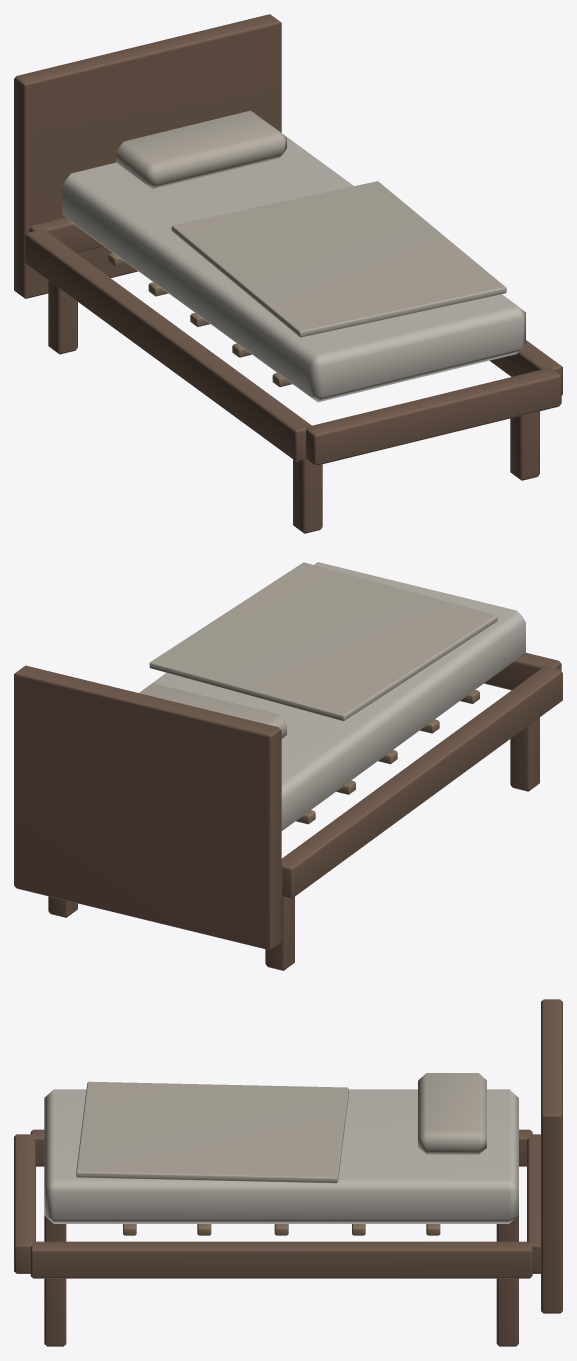
The model's file is prop_single_bed_old_01.glb.
The picture shows the model from 3 angles, top to bottom: view 1: azimuth 30°, elevation 25°; view 2: azimuth 150°, elevation 25°; view 3: azimuth 270°, elevation 25°; orthographic projection. The views are drawn at different scales.
Parts seen in each view (by area): view 1: dirty_mattress.001, old_headboard.001, dirty_sheet_thin.001, bed_rail_left.001, bed_rail_front.001, dirty_pillow.001, bed_leg_01.001, bed_leg_02.001, bed_leg_03.001, bed_rail_right.001, bed_rail_back.001; view 2: old_headboard.001, dirty_sheet_thin.001, dirty_mattress.001, bed_rail_left.001, dirty_pillow.001, bed_leg_01.001, bed_leg_03.001, bed_rail_front.001; view 3: dirty_mattress.001, dirty_sheet_thin.001, bed_rail_right.001, old_headboard.001, dirty_pillow.001, bed_rail_front.001, bed_rail_back.001, bed_leg_04.001, bed_leg_02.001, bed_rail_left.001, bed_leg_01.001, bed_leg_03.001.
Boxes of the visible parts, x1=… form: dirty_mattress.001: x1=62, y1=130, x2=525, y2=402; old_headboard.001: x1=14, y1=14, x2=281, y2=298; dirty_sheet_thin.001: x1=171, y1=181, x2=506, y2=337; bed_rail_left.001: x1=25, y1=229, x2=311, y2=461; bed_rail_front.001: x1=306, y1=367, x2=561, y2=465; dirty_pillow.001: x1=116, y1=110, x2=286, y2=189; bed_leg_01.001: x1=293, y1=459, x2=322, y2=533; bed_leg_02.001: x1=510, y1=411, x2=539, y2=480; bed_leg_03.001: x1=48, y1=280, x2=77, y2=354; bed_rail_right.001: x1=490, y1=340, x2=562, y2=395; bed_rail_back.001: x1=29, y1=217, x2=103, y2=253; old_headboard.001: x1=14, y1=665, x2=281, y2=950; dirty_sheet_thin.001: x1=149, y1=562, x2=497, y2=721; dirty_mattress.001: x1=139, y1=562, x2=525, y2=830; bed_rail_left.001: x1=281, y1=666, x2=562, y2=898; dirty_pillow.001: x1=139, y1=683, x2=286, y2=738; bed_leg_01.001: x1=510, y1=717, x2=539, y2=791; bed_leg_03.001: x1=265, y1=896, x2=294, y2=970; bed_rail_front.001: x1=484, y1=652, x2=561, y2=690; dirty_mattress.001: x1=44, y1=1089, x2=518, y2=1223; dirty_sheet_thin.001: x1=76, y1=1081, x2=348, y2=1183; bed_rail_right.001: x1=30, y1=1241, x2=532, y2=1278; old_headboard.001: x1=541, y1=999, x2=562, y2=1313; dirty_pillow.001: x1=418, y1=1073, x2=486, y2=1154; bed_rail_front.001: x1=14, y1=1134, x2=35, y2=1273; bed_rail_back.001: x1=527, y1=1134, x2=540, y2=1273; bed_leg_04.001: x1=496, y1=1278, x2=518, y2=1346; bed_leg_02.001: x1=44, y1=1278, x2=66, y2=1346; bed_rail_left.001: x1=30, y1=1129, x2=532, y2=1166; bed_leg_01.001: x1=44, y1=1215, x2=66, y2=1241; bed_leg_03.001: x1=496, y1=1215, x2=518, y2=1241.
Size of the model in its own units: 1.04 by 0.95 by 1.99.
